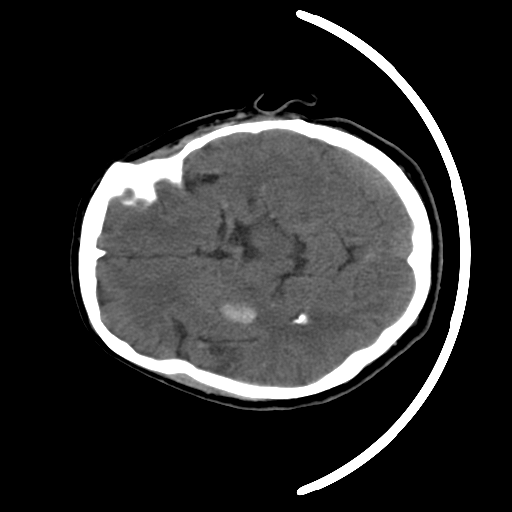a: (202, 277, 284, 346)
